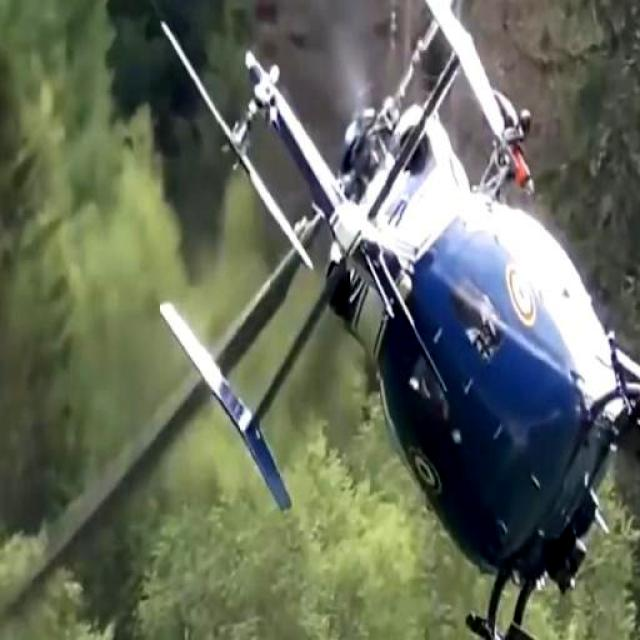drone: (139, 0, 640, 640)
